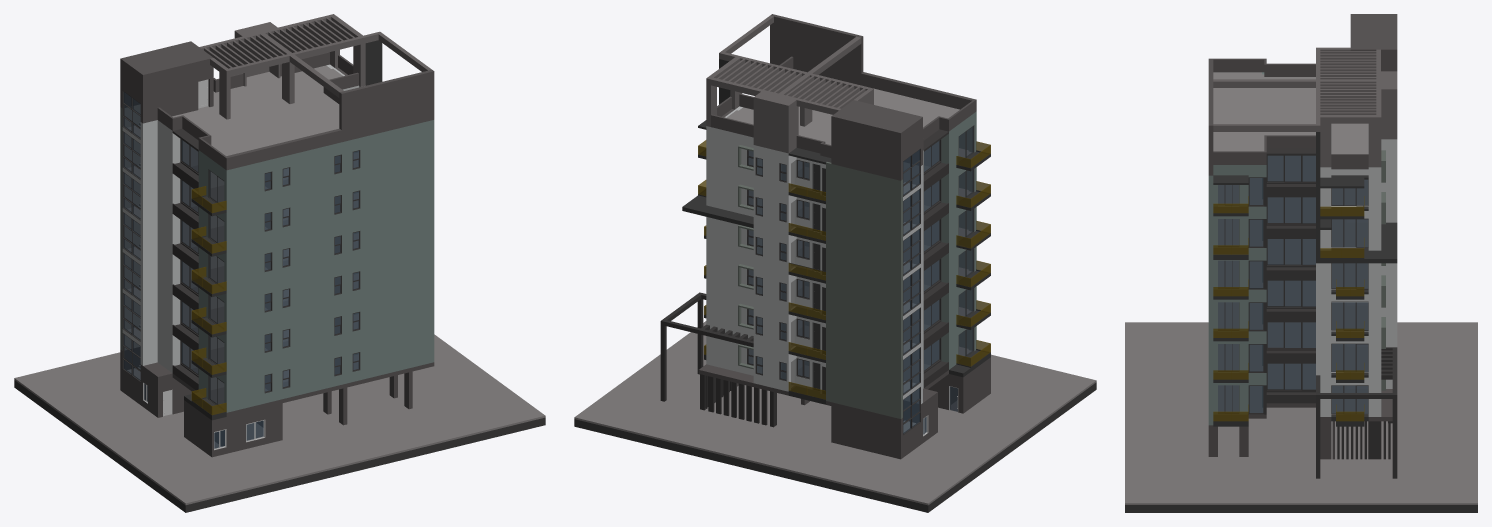
Rendered from modern_apartment_house_home_building.glb.
The picture shows the model from 3 angles, left to right: view 1: azimuth 30°, elevation 25°; view 2: azimuth 150°, elevation 25°; view 3: azimuth 270°, elevation 25°; orthographic projection. The views are drawn at different scales.
Parts seen in each view (by area): view 1: Object008_11 - Default_0, Box002, AB1_OBJ_06_06 - Default_0, Object007_Wall Paint_0, AB1_OBJ_13_Apartment Buildi_0, Object006_18 - Rubber_0, AB1_OBJ_02_17 - Old Copper #1_0, Object001_01 - Default_0, AB1_OBJ_11_Ceramic_0, Box001, AB1_OBJ_12_04 - Default_0, AB1_OBJ_04_15 - Glossy Plastic_0 (+5 smaller); view 2: Box002, Object007_Wall Paint_0, Object014_Solid Glass_0, AB1_OBJ_06_06 - Default_0, Object006_18 - Rubber_0, Object001_01 - Default_0, AB1_OBJ_02_17 - Old Copper #1_0, AB1_OBJ_11_Ceramic_0, AB1_OBJ_12_04 - Default_0, Object008_11 - Default_0, Object005_03 - Default_0, Box001 (+8 smaller); view 3: Box002, AB1_OBJ_13_Apartment Buildi_0, Object001_01 - Default_0, AB1_OBJ_02_17 - Old Copper #1_0, Object007_Wall Paint_0, Object006_18 - Rubber_0, Object001_16 - Matte Plastic_0, AB1_OBJ_12_04 - Default_0, AB1_OBJ_06_06 - Default_0, Object008_11 - Default_0, Object005_03 - Default_0, Box001 (+4 smaller).
Boxes of the visible parts, box(x1,y1,x2,y2) form: Object008_11 - Default_0: box(198, 120, 434, 412); Box002: box(14, 334, 545, 505); AB1_OBJ_06_06 - Default_0: box(120, 41, 434, 170); Object007_Wall Paint_0: box(122, 64, 360, 372); AB1_OBJ_13_Apartment Buildi_0: box(172, 65, 358, 403); Object006_18 - Rubber_0: box(199, 14, 431, 119); AB1_OBJ_02_17 - Old Copper #1_0: box(122, 91, 360, 393); Object001_01 - Default_0: box(123, 92, 358, 391); AB1_OBJ_11_Ceramic_0: box(120, 347, 434, 457); Box001: box(14, 380, 545, 512); AB1_OBJ_12_04 - Default_0: box(184, 40, 382, 420); AB1_OBJ_04_15 - Glossy Plastic_0: box(183, 141, 340, 390); Box002: box(574, 321, 1096, 505); Object007_Wall Paint_0: box(706, 106, 923, 403); Object014_Solid Glass_0: box(826, 162, 902, 418); AB1_OBJ_06_06 - Default_0: box(711, 14, 976, 180); Object006_18 - Rubber_0: box(706, 15, 873, 153); Object001_01 - Default_0: box(748, 141, 939, 433); AB1_OBJ_02_17 - Old Copper #1_0: box(747, 129, 948, 434); AB1_OBJ_11_Ceramic_0: box(698, 357, 990, 459); AB1_OBJ_12_04 - Default_0: box(682, 59, 990, 404); Object008_11 - Default_0: box(941, 111, 976, 369); Object005_03 - Default_0: box(698, 140, 990, 399); Box001: box(574, 382, 1096, 512); Box002: box(1125, 322, 1477, 504); AB1_OBJ_13_Apartment Buildi_0: box(1213, 72, 1368, 413); Object001_01 - Default_0: box(1218, 155, 1368, 413); AB1_OBJ_02_17 - Old Copper #1_0: box(1218, 148, 1368, 414); Object007_Wall Paint_0: box(1316, 139, 1397, 416); Object006_18 - Rubber_0: box(1213, 47, 1397, 167); Object001_16 - Matte Plastic_0: box(1218, 180, 1367, 413); AB1_OBJ_12_04 - Default_0: box(1213, 132, 1397, 426); AB1_OBJ_06_06 - Default_0: box(1208, 14, 1397, 175); Object008_11 - Default_0: box(1208, 72, 1266, 425); Object005_03 - Default_0: box(1213, 196, 1364, 421); Box001: box(1125, 505, 1477, 512).
Size of the model in its own units: 28.41 by 25.76 by 23.42.
